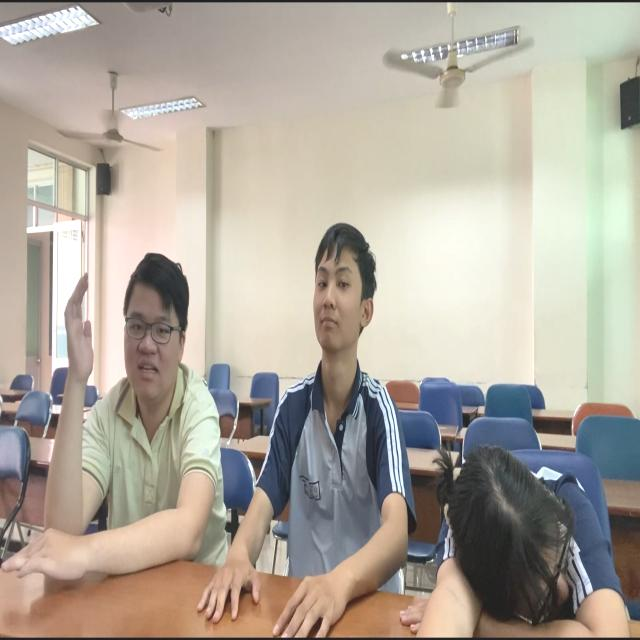raise_hand: (28, 241, 230, 586)
sleep: (428, 416, 640, 640)
